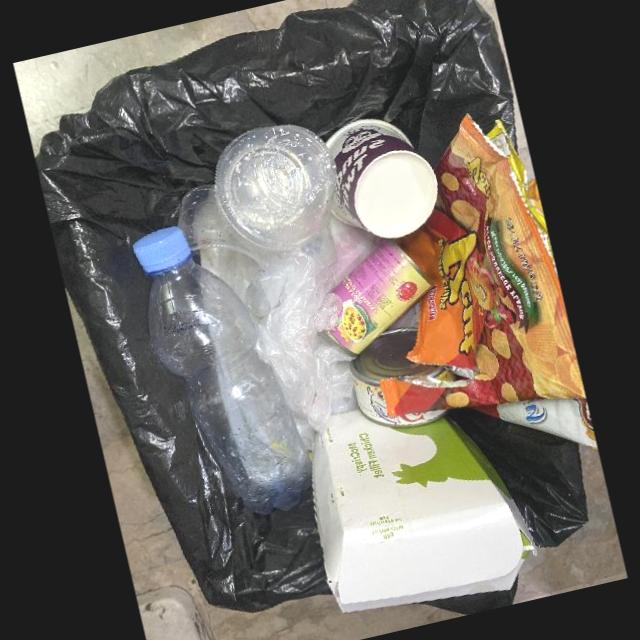bao_bi_thuc_pham: (381, 111, 584, 416), (483, 397, 598, 450)
carton: (309, 403, 525, 612), (325, 117, 441, 238)
hop_nhua: (215, 125, 337, 251), (180, 187, 264, 268)
nhom: (322, 239, 436, 357)
tui_ni_long: (202, 217, 377, 430)
